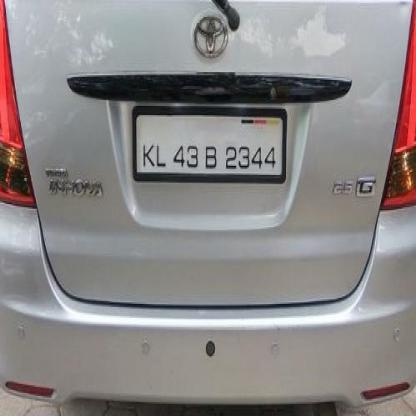license_plate: (134, 109, 284, 177)
